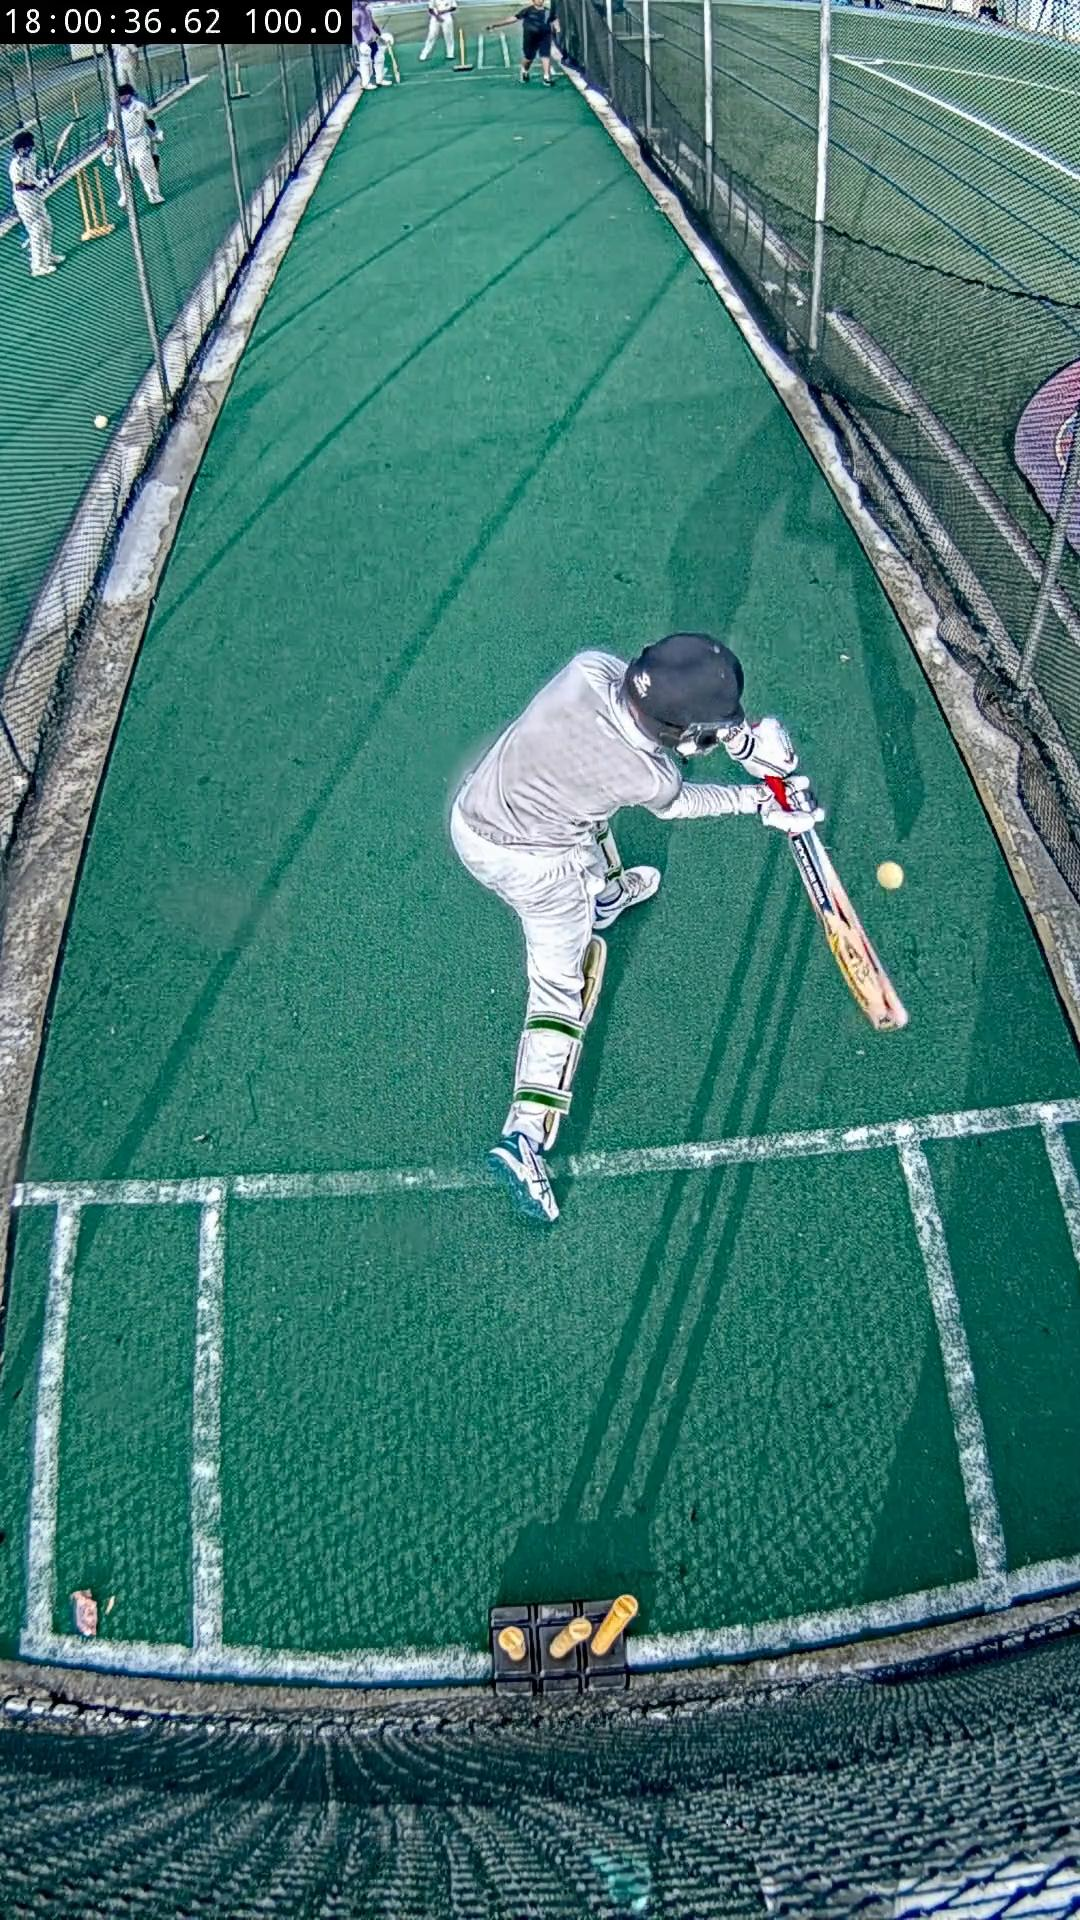ball: (877, 862, 903, 889)
bat: (787, 828, 907, 1027)
gloves: (724, 716, 825, 836)
helmet: (626, 634, 742, 754)
pads: (546, 939, 603, 1147)
stumps: (492, 1594, 637, 1695)
